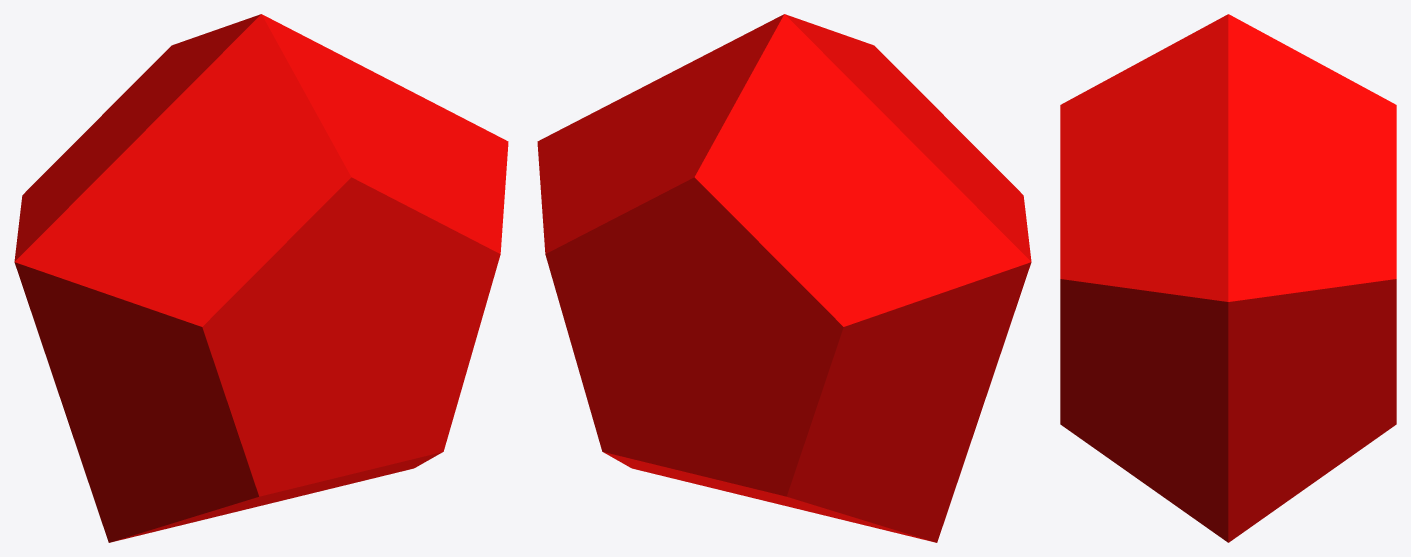
The model's file is Crystal_red.fbx.
3 renders of one model, left to right at view 1: azimuth 30°, elevation 25°; view 2: azimuth 150°, elevation 25°; view 3: azimuth 270°, elevation 25°, orthographic. The views are drawn at different scales.
Visible parts, largest first — view 1: polySurface6; view 2: polySurface6; view 3: polySurface6.
Part boxes in pixels (box(x1,y1,x2,y2)): polySurface6: box(14, 14, 508, 542); polySurface6: box(537, 14, 1031, 542); polySurface6: box(1060, 14, 1396, 542).
Size of the model in its own units: 0.1659 by 0.1577 by 0.1046.
Materials: 1 (1 with a texture image).
